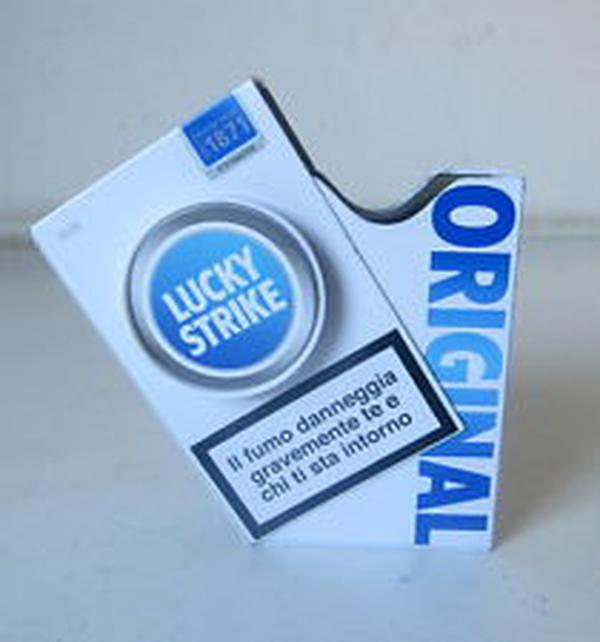lucky_strike_blue: (108, 107, 360, 494)
